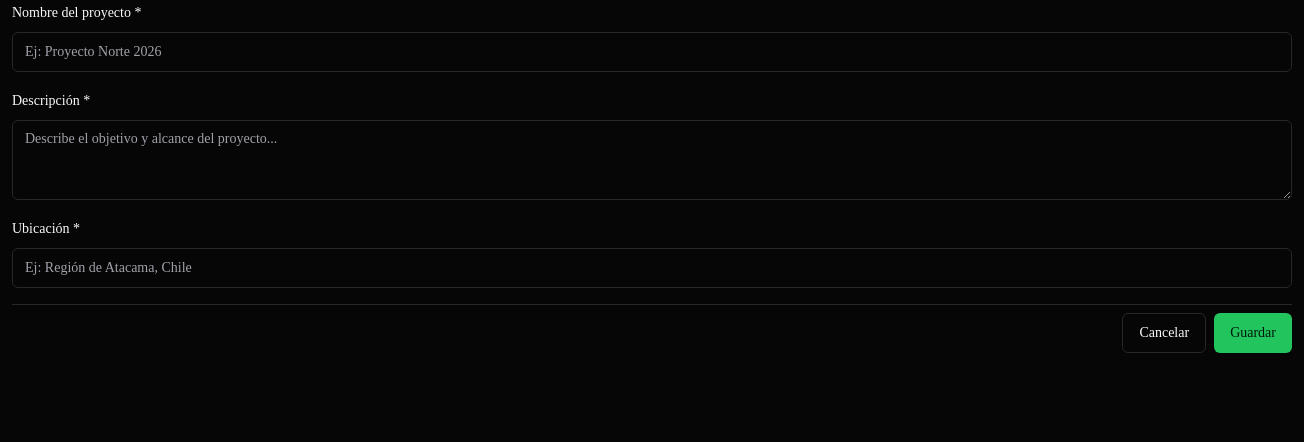
ProjectForm › shows validation errors when submitting empty
Click the button "Guardar" at coordinates (1253, 333), box [1214,313,1292,353]
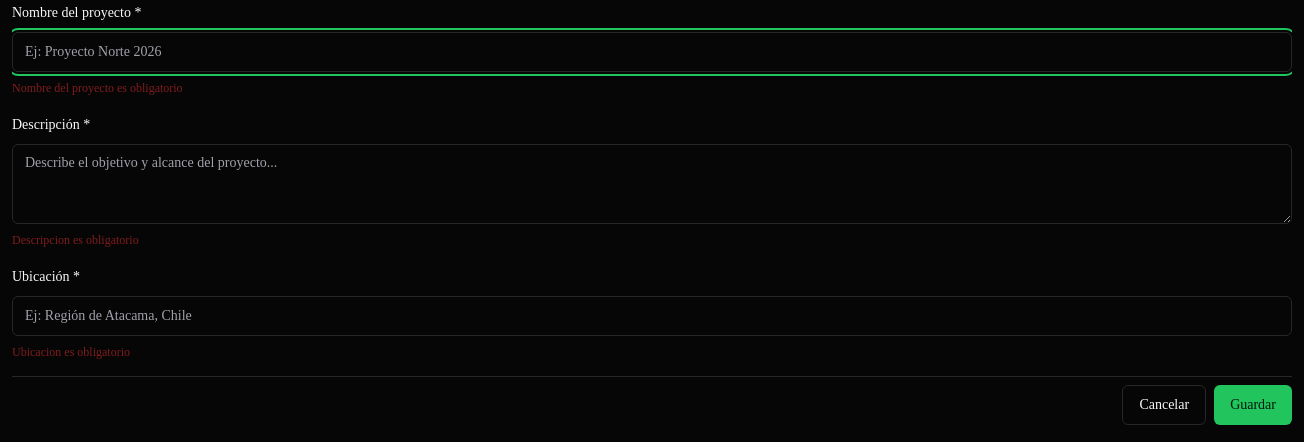
Now the text "Nombre del proyecto es obligatorio" is shown, box [12,81,183,95]
Now the text "Descripcion es obligatorio" is shown, box [12,233,139,247]
Now the text "Ubicacion es obligatorio" is shown, box [12,345,130,359]
